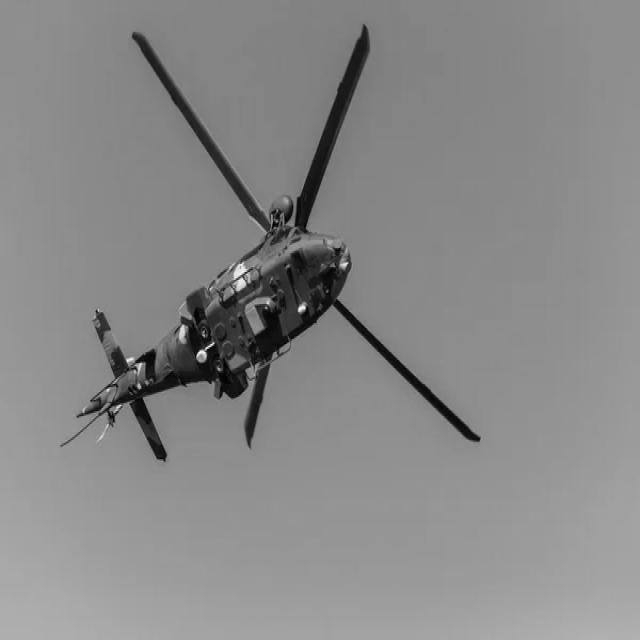Helicopter: (61, 26, 480, 462)
